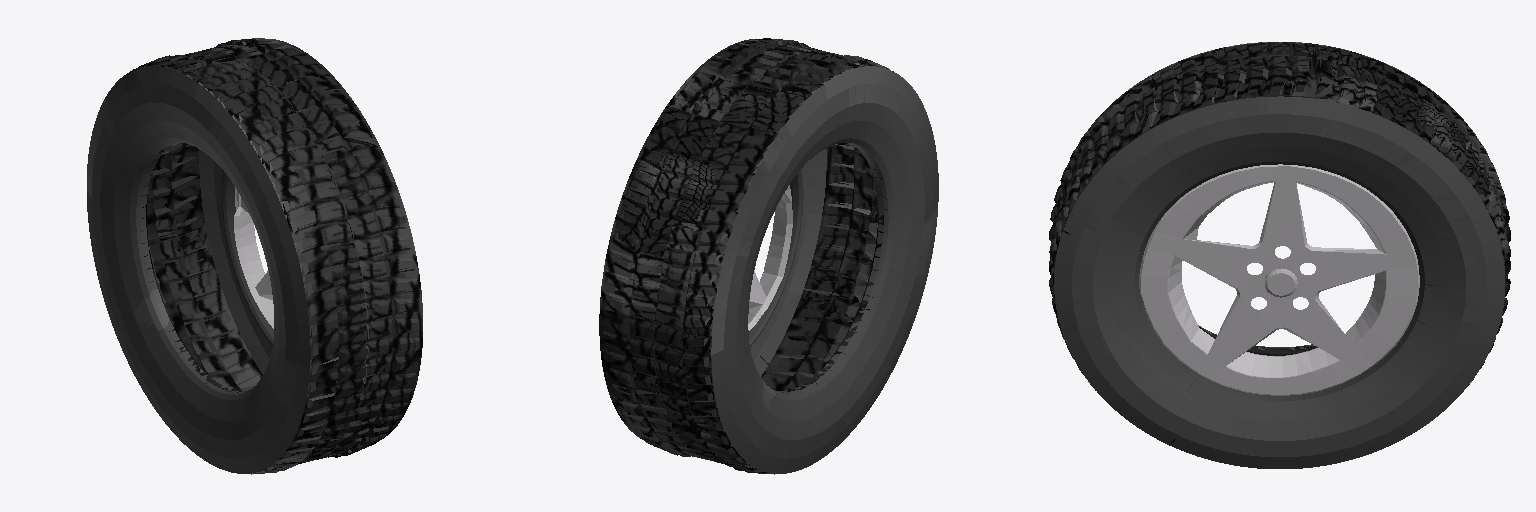
The picture shows the model from 3 angles: view 1: azimuth 30°, elevation 25°; view 2: azimuth 150°, elevation 25°; view 3: azimuth 270°, elevation 25°; orthographic projection.
Parts seen in each view (by area): view 1: 1.010; view 2: 1.010; view 3: 1.010.
Part boxes in pixels (left/top/right/bottom): 1.010: left=87, top=38, right=422, bottom=474; 1.010: left=599, top=38, right=938, bottom=474; 1.010: left=1049, top=42, right=1510, bottom=468.
Size of the model in its own units: 20.98 by 60.23 by 66.12.
2 materials, 1 textured.